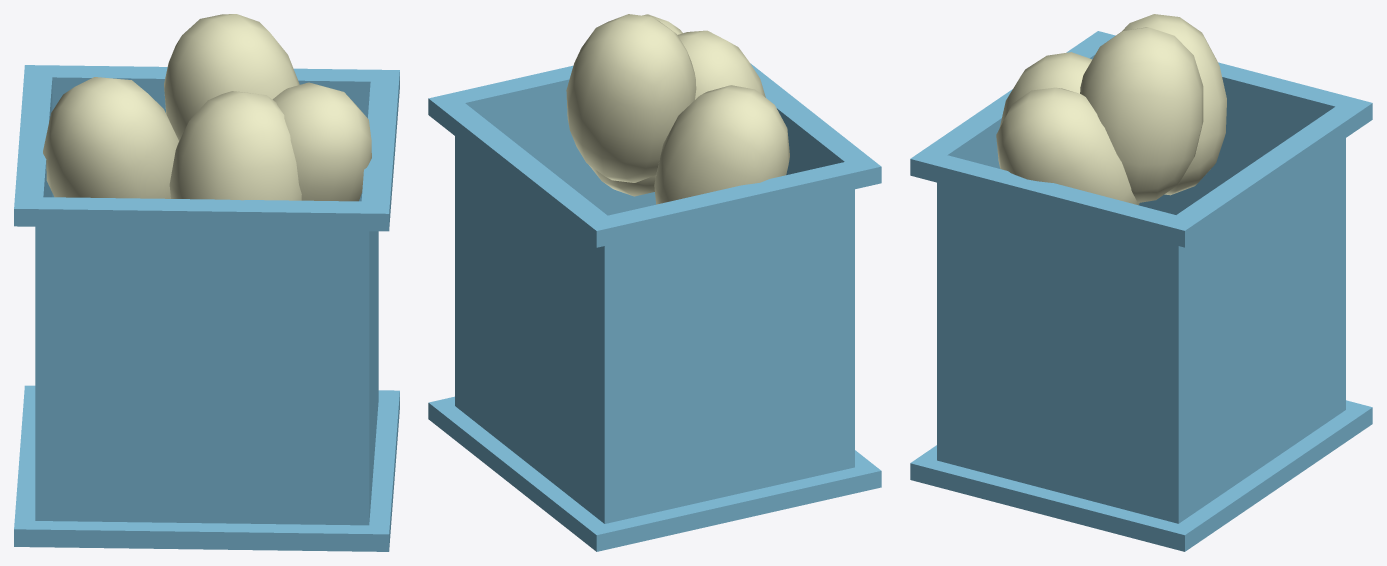
File: ColeccionPapas.fbx
The picture shows the model from 3 angles, left to right: view 1: azimuth 30°, elevation 25°; view 2: azimuth 150°, elevation 25°; view 3: azimuth 270°, elevation 25°; orthographic projection. The views are drawn at different scales.
Parts seen in each view (by area): view 1: pCube64; view 2: pCube64; view 3: pCube64.
Part boxes in pixels (x1,y1,x2,y2): pCube64: (14,14,399,551); pCube64: (428,14,881,551); pCube64: (910,14,1372,551).
Bounding box in the file's own units: 9.17 × 9.18 × 8.96.
